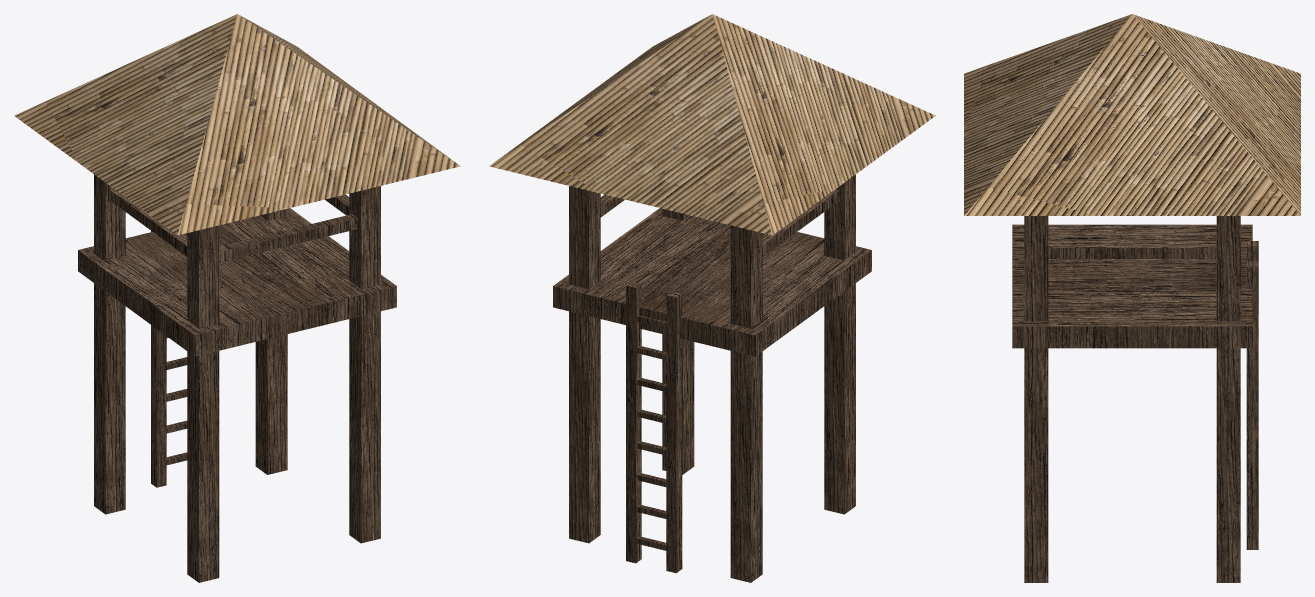
The model's file is tower.FBX.
3 views of the same model, side by side, from view 1: azimuth 30°, elevation 25°; view 2: azimuth 150°, elevation 25°; view 3: azimuth 270°, elevation 25° (orthographic). The views are drawn at different scales.
Parts seen in each view (by area): view 1: tower; view 2: tower; view 3: tower.
Part boxes in pixels (x1,y1,x2,y2): tower: (14,14,460,582); tower: (489,14,935,582); tower: (964,14,1300,582).
Size of the model in its own units: 140 by 240 by 140.
